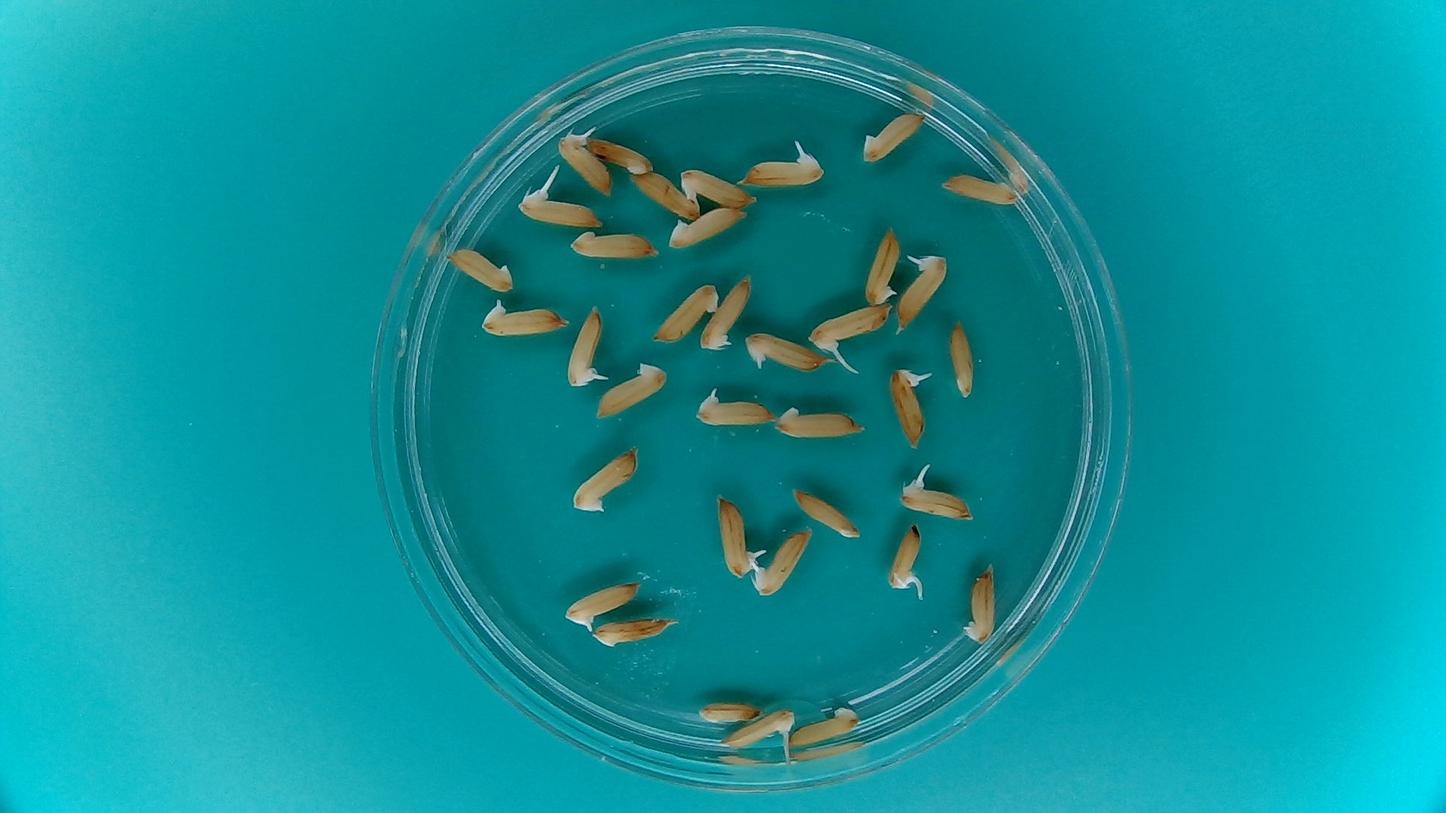no: (566, 448, 638, 516), (649, 279, 722, 345), (700, 268, 755, 352), (859, 106, 929, 165), (593, 364, 667, 419), (791, 485, 862, 541), (441, 243, 516, 293), (627, 171, 701, 221), (860, 221, 903, 307), (959, 559, 1000, 648), (788, 705, 861, 751), (673, 207, 746, 250), (937, 169, 1021, 206), (945, 315, 979, 403), (770, 408, 859, 441), (587, 135, 656, 176), (568, 230, 656, 261), (591, 617, 673, 648), (694, 698, 768, 724)
yes: (894, 254, 947, 327), (742, 330, 831, 373), (811, 303, 888, 352), (558, 128, 611, 197), (676, 165, 754, 209), (757, 532, 808, 598), (484, 303, 574, 340), (566, 305, 606, 388), (718, 709, 794, 752), (886, 367, 926, 448), (565, 580, 640, 623), (522, 193, 607, 230), (740, 152, 822, 190), (895, 480, 967, 521), (694, 394, 776, 428), (718, 502, 755, 577), (888, 519, 925, 592)
